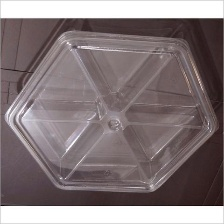plastic_box: (0, 21, 224, 199)
